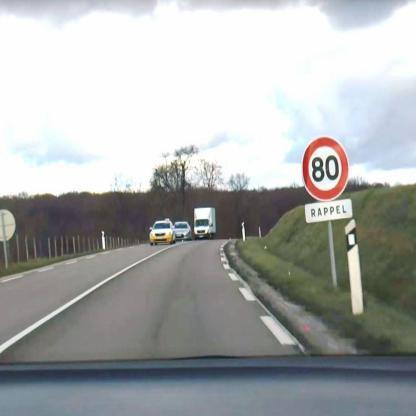Speed Limit -80-: (287, 147, 363, 199)
